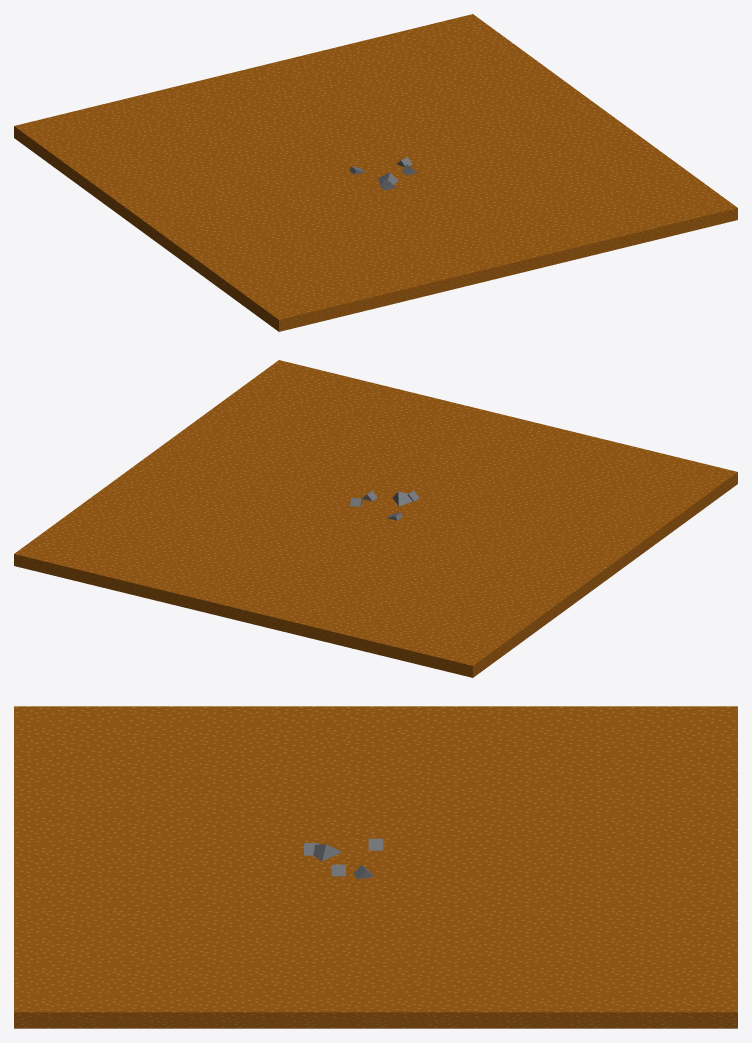
The model's file is dirt_arena.glb.
The picture shows the model from 3 angles, top to bottom: view 1: azimuth 30°, elevation 25°; view 2: azimuth 150°, elevation 25°; view 3: azimuth 270°, elevation 25°; orthographic projection. The views are drawn at different scales.
Parts seen in each view (by area): view 1: Box; view 2: Box; view 3: Box.
Boxes of the visible parts, <box> form: Box: <box>14,14,737,331</box>; Box: <box>14,360,737,677</box>; Box: <box>14,706,737,1028</box>.
Size of the model in its own units: 160 by 10.5 by 160.
7 materials, 6 textured.
